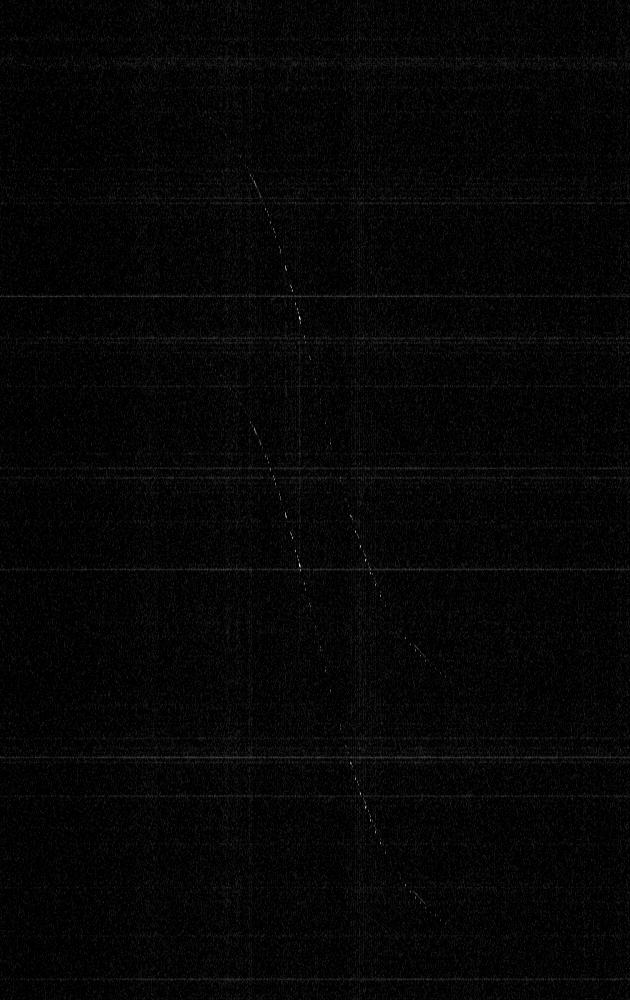signal: (0, 0, 629, 999)
